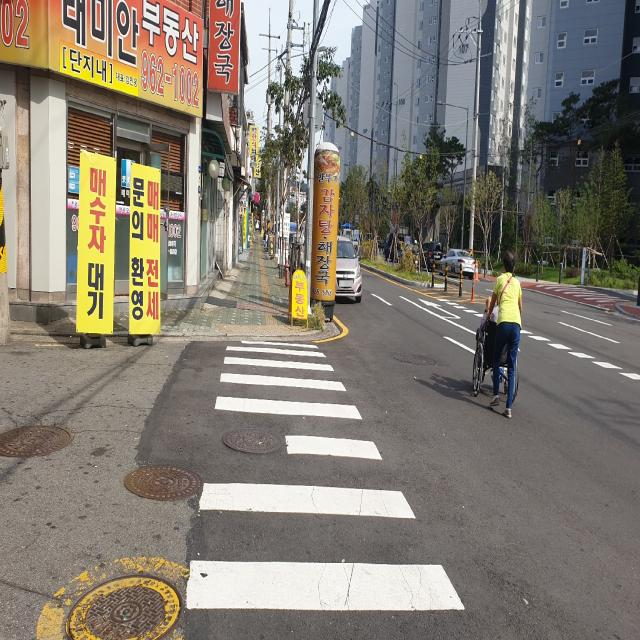횡단보도: (178, 336, 468, 620)
